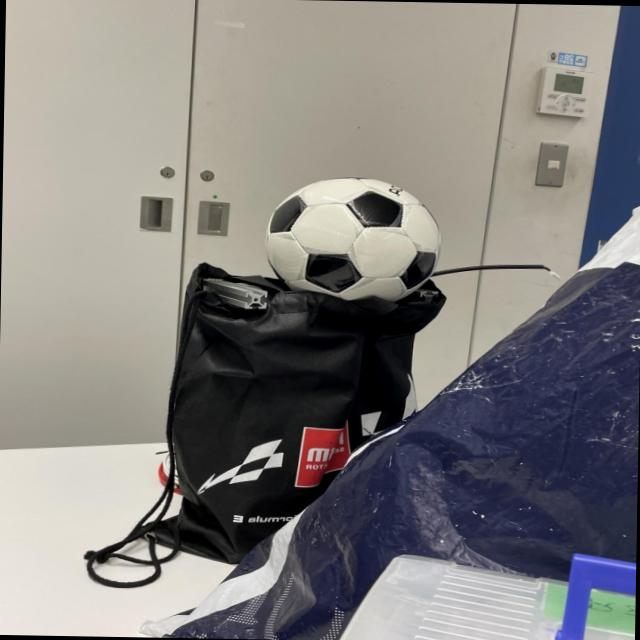Soccer Ball: (265, 177, 446, 299)
